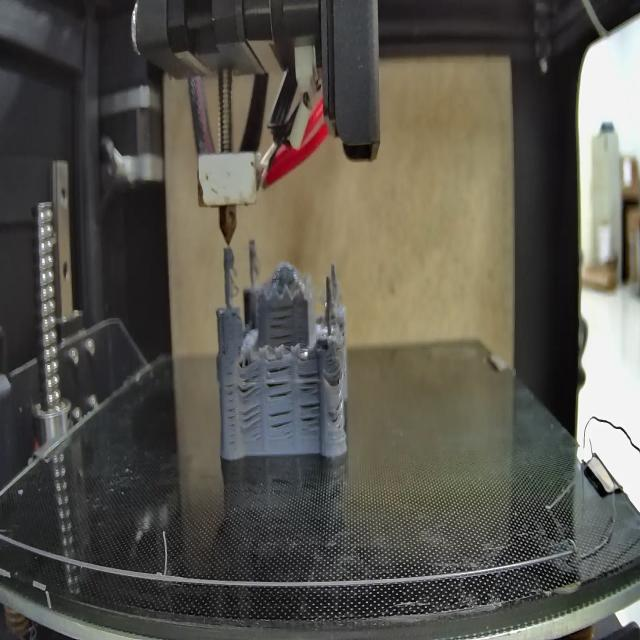cracks: (297, 364, 323, 431), (267, 303, 295, 345), (223, 364, 236, 448), (265, 363, 293, 399), (238, 407, 264, 432), (268, 410, 294, 433), (239, 372, 262, 397), (325, 397, 346, 424), (326, 358, 343, 387)
